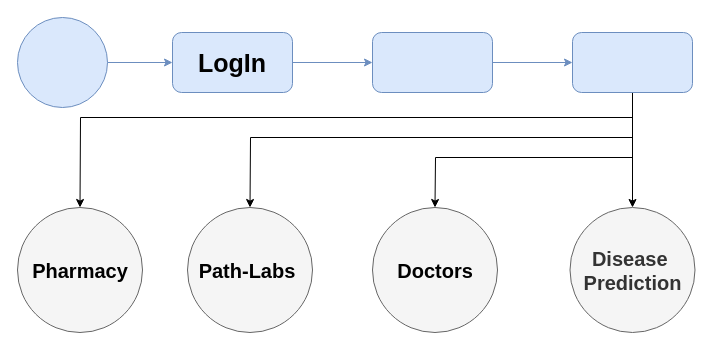
This 713x350 diagram has some shape labels left out. Each missing label, with the box of its shape:
Dashboard: (572, 32, 692, 92)
Patient: (16, 16, 108, 108)
Registration: (372, 32, 492, 92)
